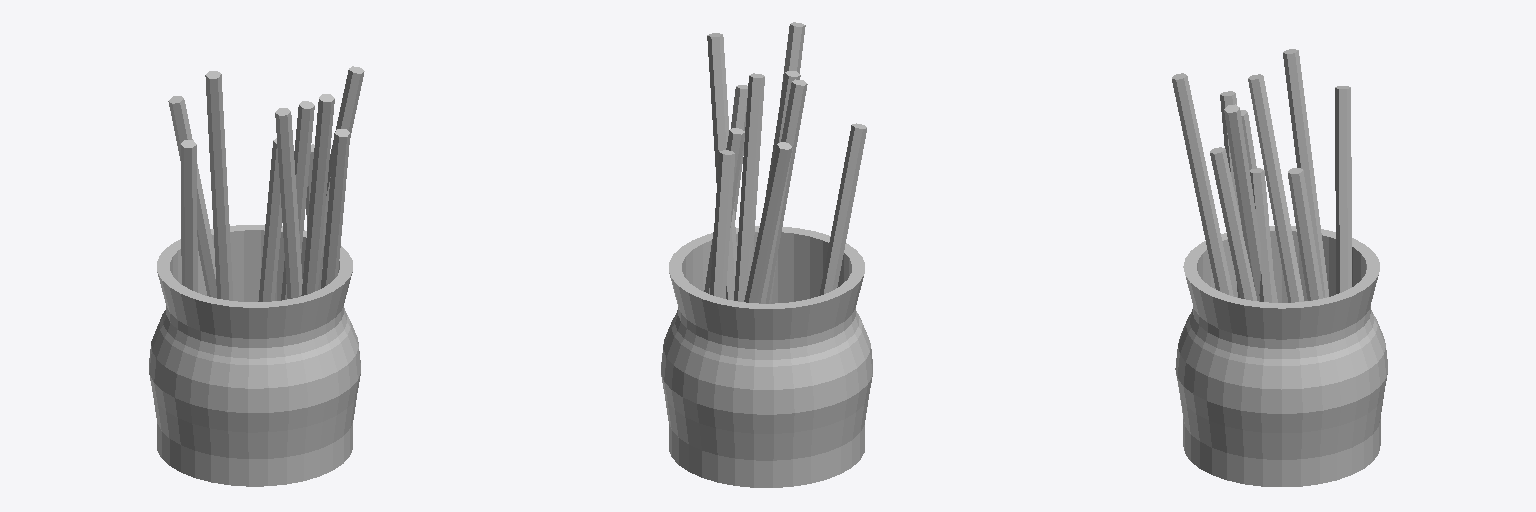
The model's file is Pencils_Cylinder.obj.
The picture shows the model from 3 angles: view 1: azimuth 30°, elevation 25°; view 2: azimuth 150°, elevation 25°; view 3: azimuth 270°, elevation 25°; orthographic projection.
Visible parts, largest first — view 1: pencils_Cylinder; view 2: pencils_Cylinder; view 3: pencils_Cylinder.
Part boxes in pixels (x1,y1,x2,y2): pencils_Cylinder: (149,66,364,486); pencils_Cylinder: (661,22,872,487); pencils_Cylinder: (1172,49,1387,486).
Bounding box in the file's own units: 0.1111 × 0.2195 × 0.1131.